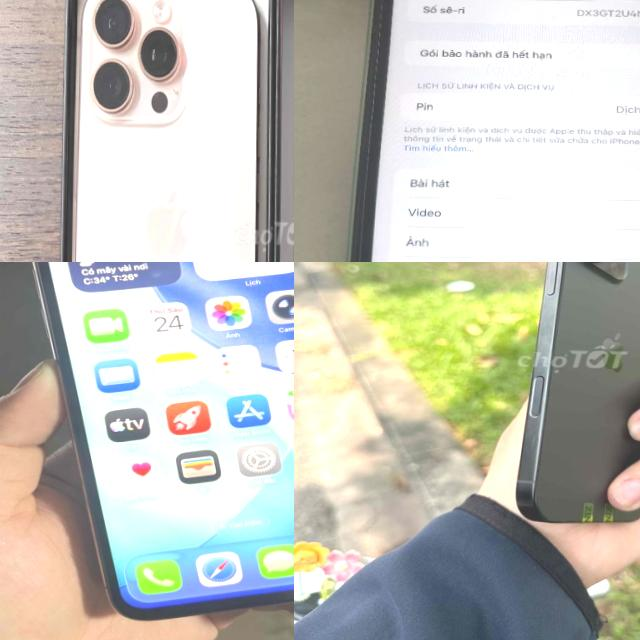gen_11: (8, 262, 294, 622), (341, 0, 640, 262)
gen_16: (71, 0, 259, 262), (496, 262, 640, 540)
